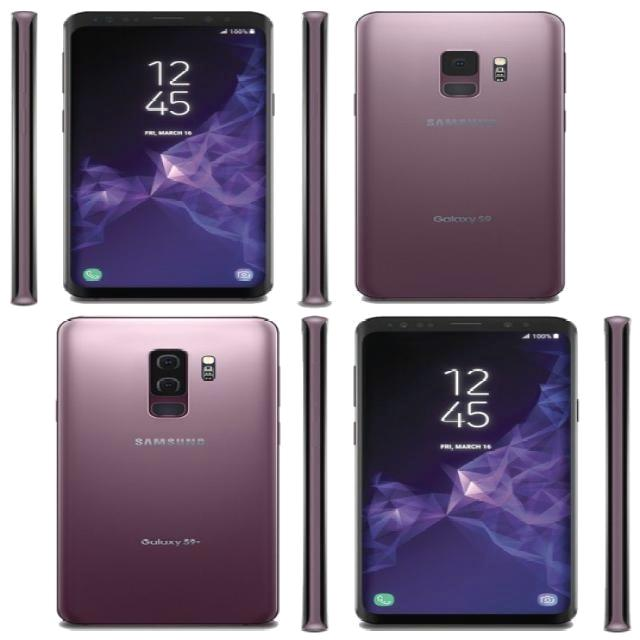lens: (147, 347, 191, 418), (441, 49, 484, 97)
phone: (350, 309, 582, 633), (53, 308, 283, 630), (347, 6, 572, 304), (57, 7, 280, 302), (294, 314, 331, 636), (599, 312, 634, 634), (10, 7, 45, 308), (299, 6, 333, 311)
